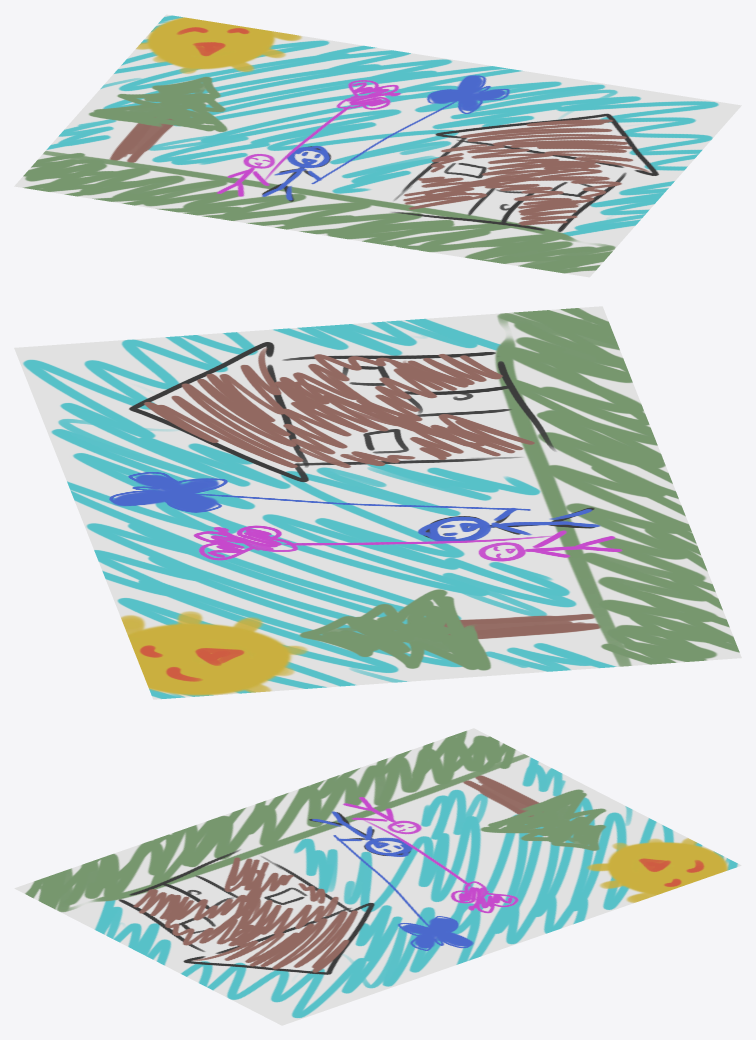
Rendered from picture.glb.
3 views of the same model, one above another, from view 1: azimuth 30°, elevation 25°; view 2: azimuth 150°, elevation 25°; view 3: azimuth 270°, elevation 25° (orthographic). The views are drawn at different scales.
Visible parts, largest first — view 1: picture; view 2: picture; view 3: picture.
Boxes of the visible parts, box(x1,y1,x2,y2) form: picture: box(14, 14, 741, 277); picture: box(14, 306, 741, 699); picture: box(14, 728, 741, 1025).
Bounding box in the file's own units: 0.6204 × 0 × 0.6412.
1 material, 1 textured.
